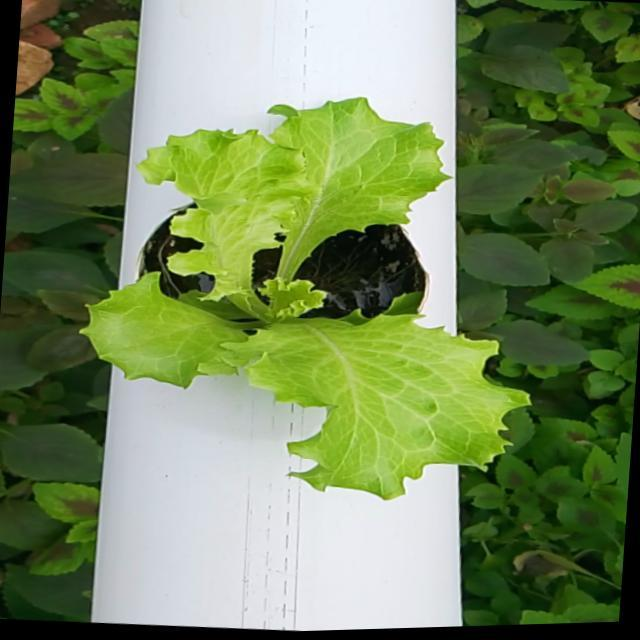Baby: (60, 100, 503, 495)
